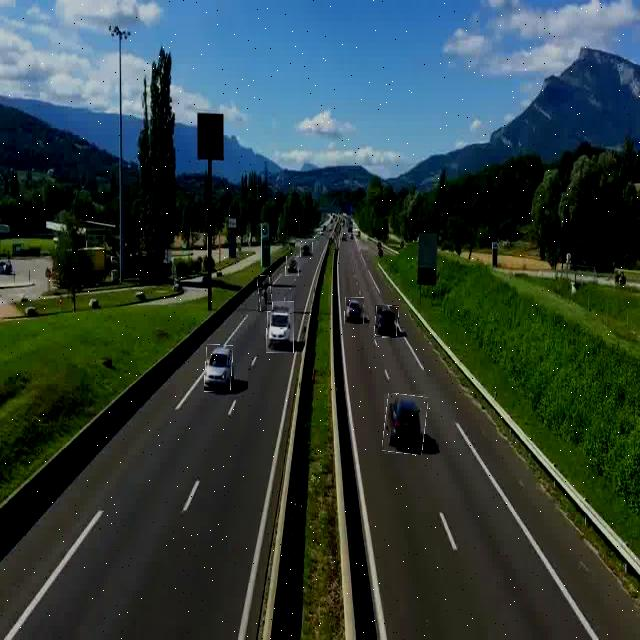Car: (384, 394, 426, 454), (267, 301, 294, 353), (205, 345, 233, 392), (375, 306, 399, 338), (345, 297, 364, 324), (286, 256, 299, 276), (300, 240, 313, 258)
Motorcycle: (258, 275, 272, 312)
